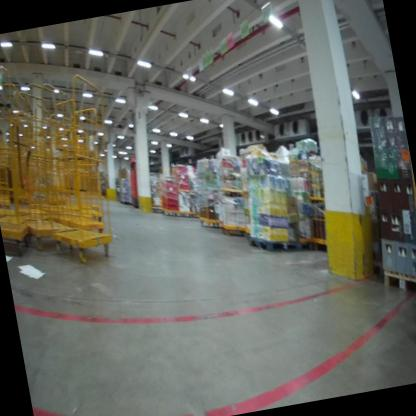pallet: (378, 265, 416, 306), (246, 230, 299, 257)
